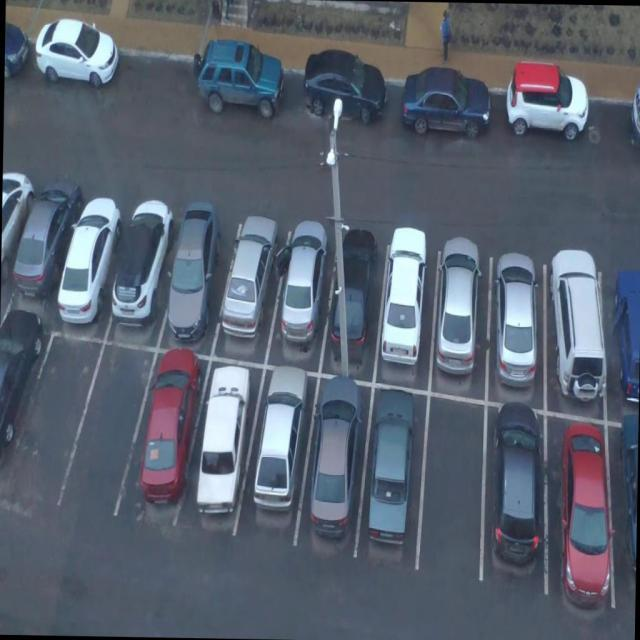space-empty: (18, 317, 98, 522), (418, 391, 484, 582), (80, 339, 145, 519)
space-occupied: (543, 409, 616, 624), (478, 390, 547, 605), (303, 369, 368, 576), (536, 244, 616, 408), (364, 380, 424, 575), (247, 356, 305, 557), (137, 348, 199, 526), (109, 187, 176, 347), (429, 230, 492, 396), (200, 352, 251, 555), (484, 249, 552, 393), (55, 184, 121, 332), (219, 205, 280, 356), (163, 202, 223, 353), (271, 212, 331, 362), (376, 218, 434, 373), (324, 221, 379, 371), (10, 191, 75, 305), (604, 409, 638, 623), (596, 263, 640, 420), (0, 182, 41, 313)
